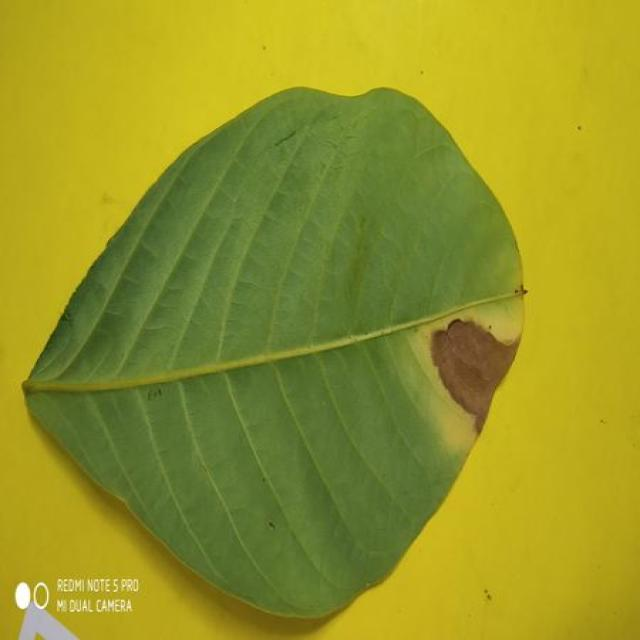chakte: (23, 89, 522, 617)
seedling blight: (432, 319, 520, 432)
